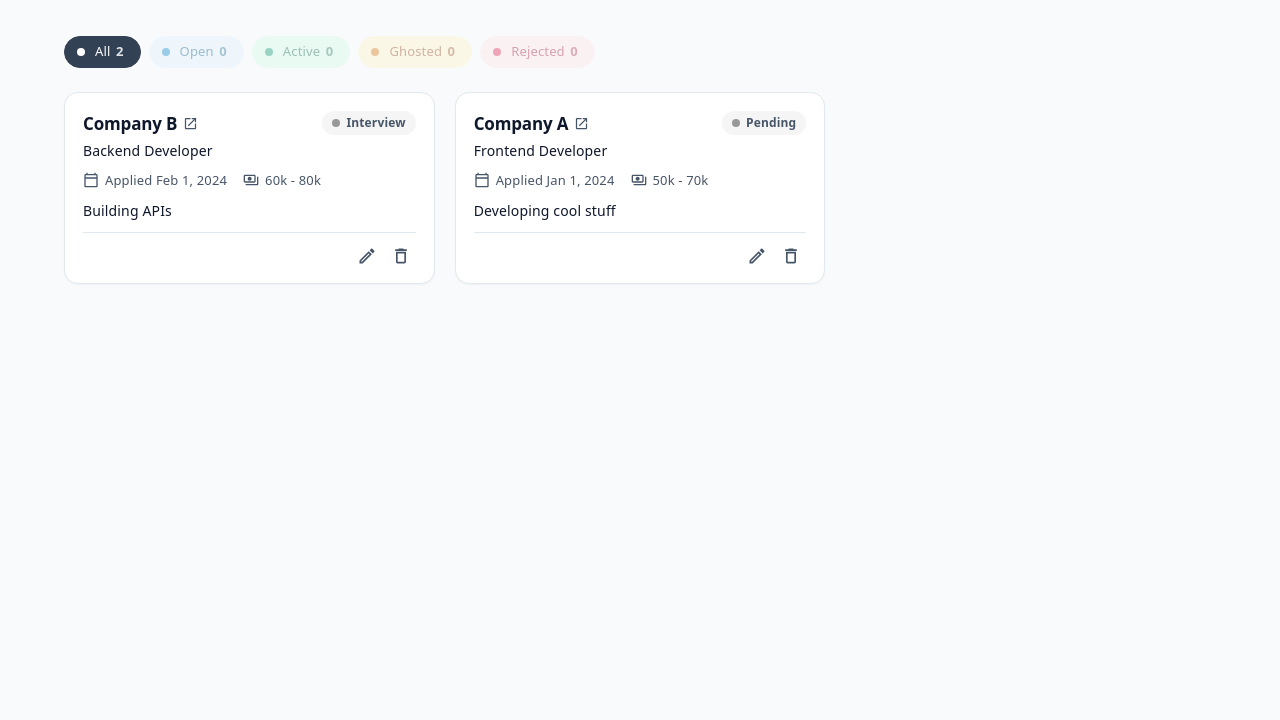
Scenario: JobApplicationList › deletes a job application
The width and height of the screenshot is (1280, 720).
Expected: the link "Company A" is shown, left=474, top=111, right=589, bottom=136
Note: Delete the first application and confirm in the dialog.
Click the button named "Delete Company A" at (791, 256), box left=776, top=241, right=806, bottom=271
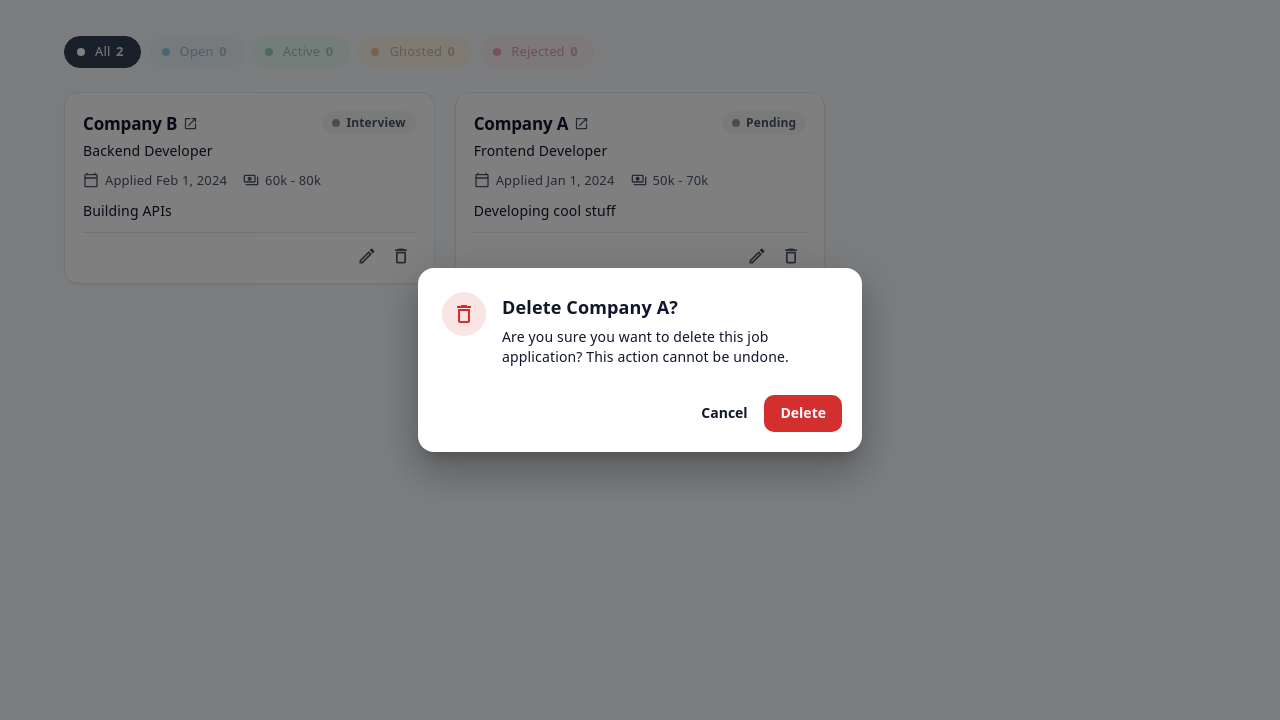
Result: the heading "Delete Company A?" is shown at left=502, top=295, right=678, bottom=319
Click the button "Delete" at (803, 414), box left=764, top=395, right=842, bottom=432
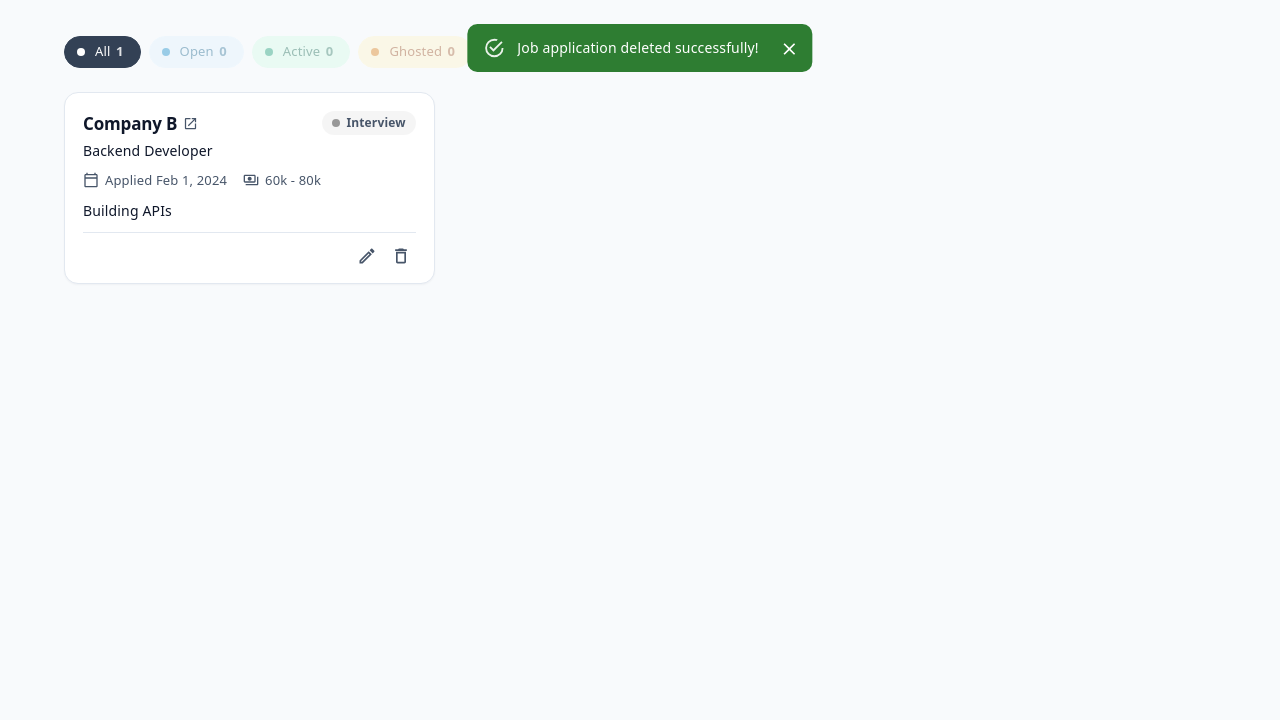
Result: the link "Company A" is gone
Result: the text "Job application deleted successfully!" is shown at left=517, top=38, right=759, bottom=57
